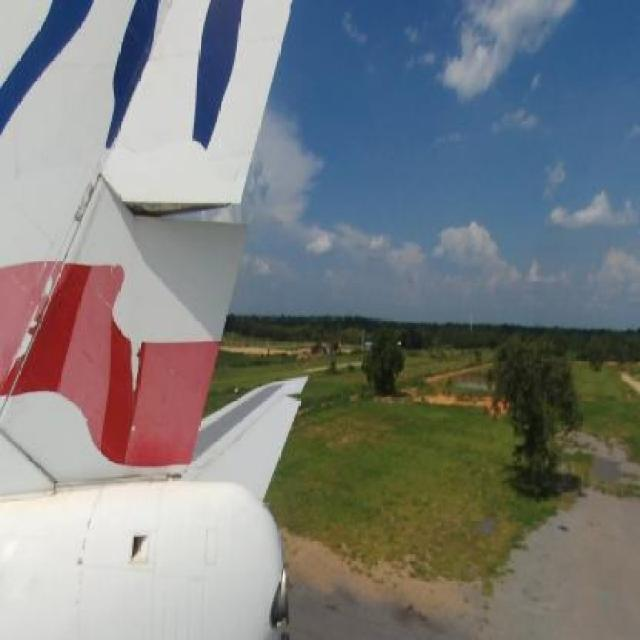Rust: (156, 471, 187, 500)
Scartch: (78, 499, 98, 583), (113, 521, 150, 559)
